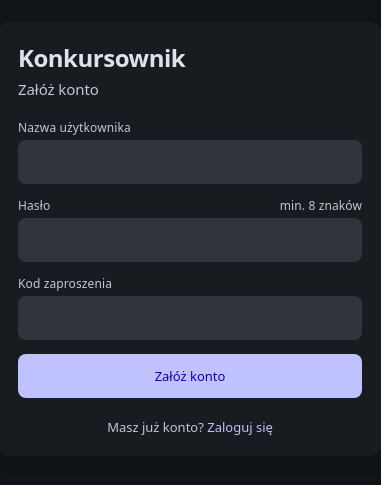
Test: RegisterPage › maps invalid_username
The image size is (381, 485).
Step 1. Type "a" into the field labelled "Nazwa użytkownika" → (190, 162), box 18,140 -> 362,184
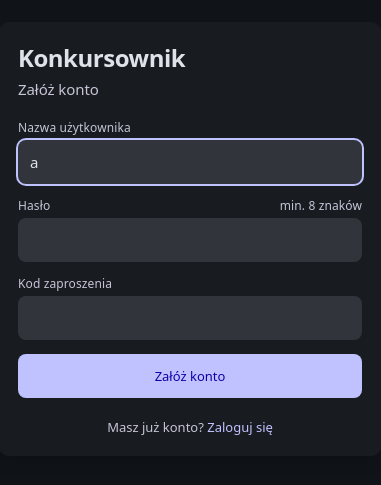
Step 2. Type "haslo1234" into the password field labelled "Hasło" → (190, 240), box 18,218 -> 362,262
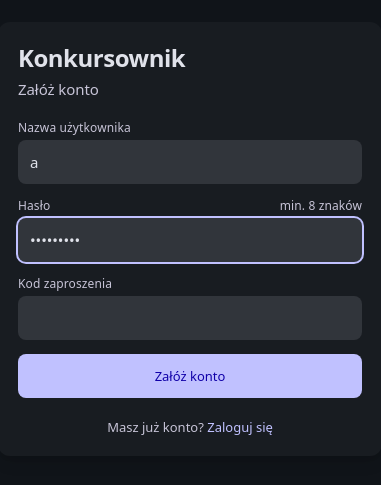
Step 3. Type "KOD" into the field labelled "Kod zaproszenia" → (190, 318), box 18,296 -> 362,340
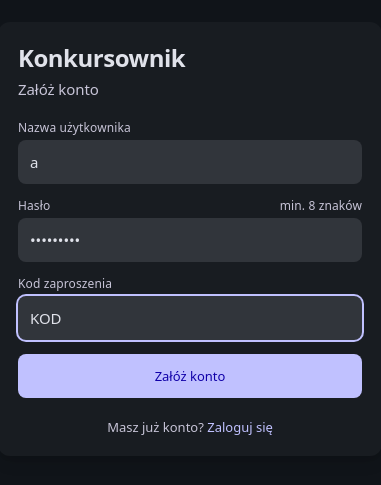
Step 4. Click the button "Załóż konto" → (190, 376), box 18,354 -> 362,398
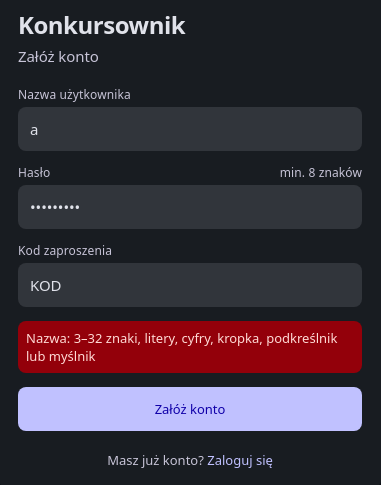
expect the text "Nazwa: 3–32 znaki, litery, cyfry, kropka, podkreślnik lub myślnik" is shown: met, box 18,321 -> 362,373
